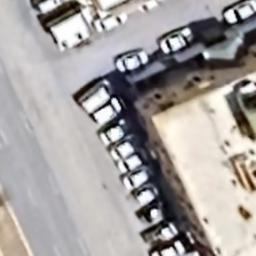sedan: (155, 27, 196, 56), (96, 118, 138, 146), (135, 198, 176, 223), (218, 0, 256, 26), (120, 164, 158, 190), (114, 48, 150, 73), (116, 147, 150, 173), (110, 134, 142, 160), (132, 181, 166, 205), (92, 10, 128, 32), (146, 240, 186, 256)
unknown: (140, 220, 183, 244)
van: (76, 76, 114, 115), (91, 98, 127, 124)
